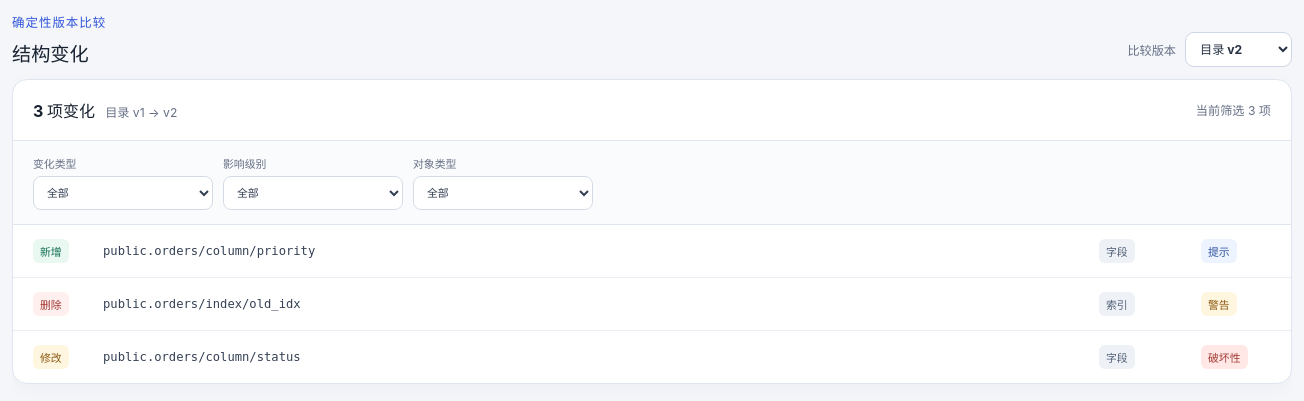
filters the loaded page without changing server evidence
This screenshot has width=1304, height=401.
Check: the text "public.orders/column/priority" is shown, box [103,244,315,258]
Select "删除" in the dropdown labelled "变化类型": (123, 193) [33,176,213,210]
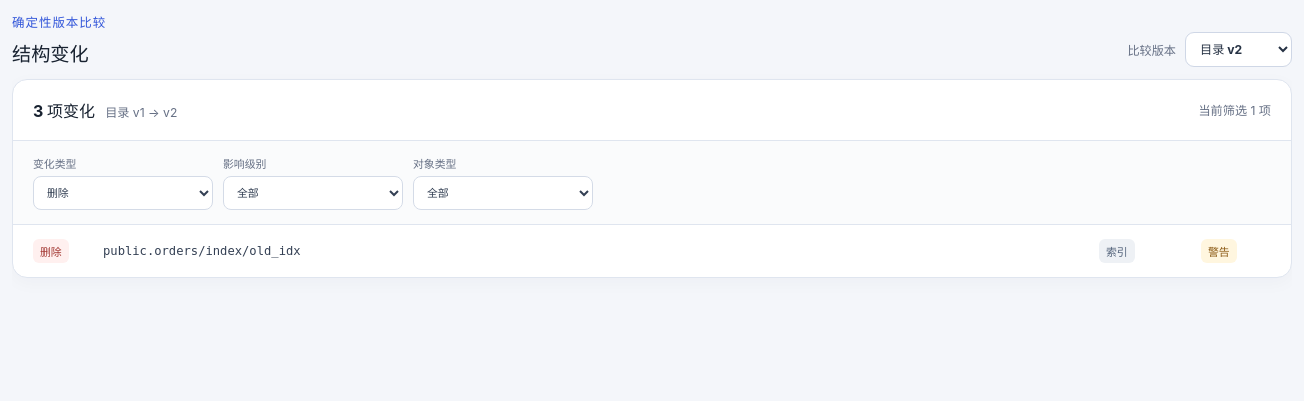
Check: the text "public.orders/index/old_idx" is shown, box [103,244,301,258]
Check: the heading "public.orders/column/priority" is gone
Check: the text "当前筛选 1 项" is shown, box [1198,101,1271,119]
